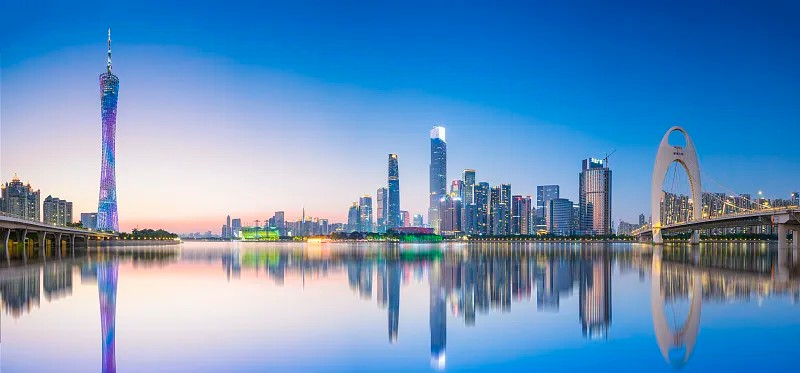Canton: (97, 29, 121, 233)
